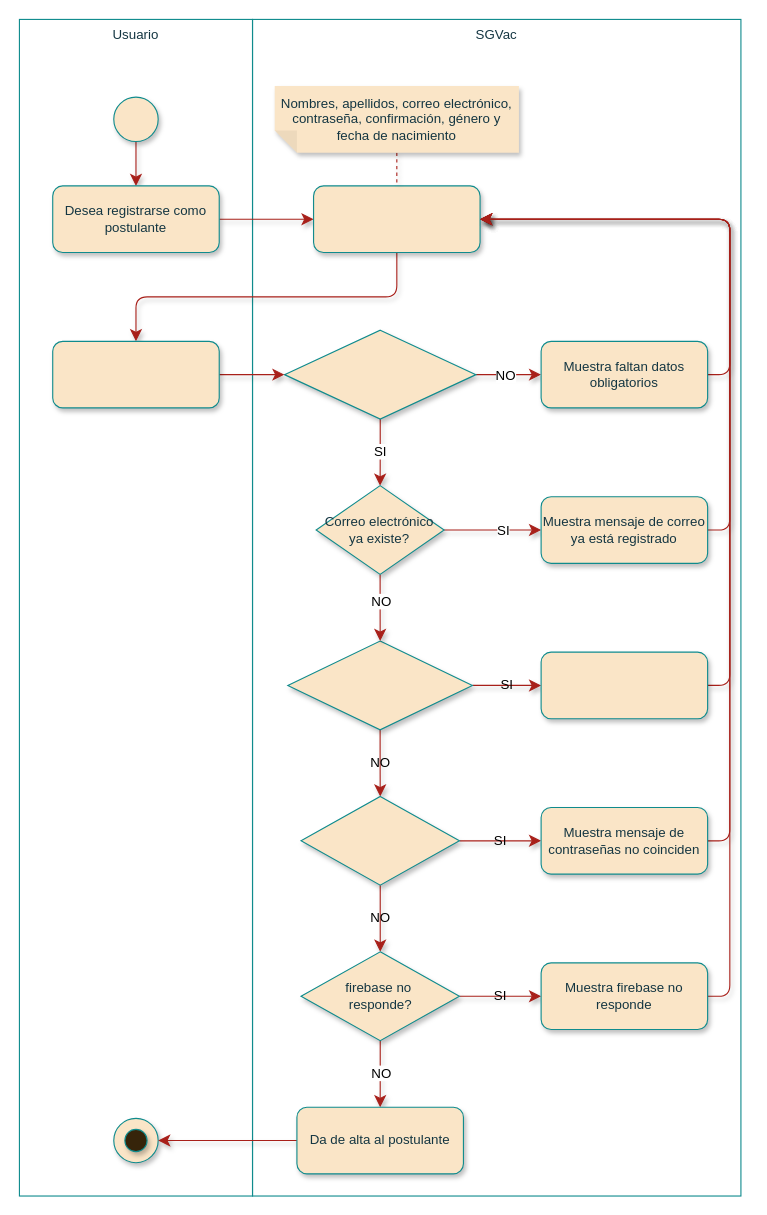
This 767x1215 diagram has some shape labels left out. The centre of each missing label's shape, as x and y in pixels:
Contraseña != confirmación: the point at 380,842
Ingresa datos: the point at 136,376
Ingresó datos obligatorios?: the point at 381,376
Longitud de contraseña < 6: the point at 380,686
Muestra formulario para ingresar datos: the point at 397,220
Muestra mensaje de longitud de contraseña muy corta: the point at 625,686
